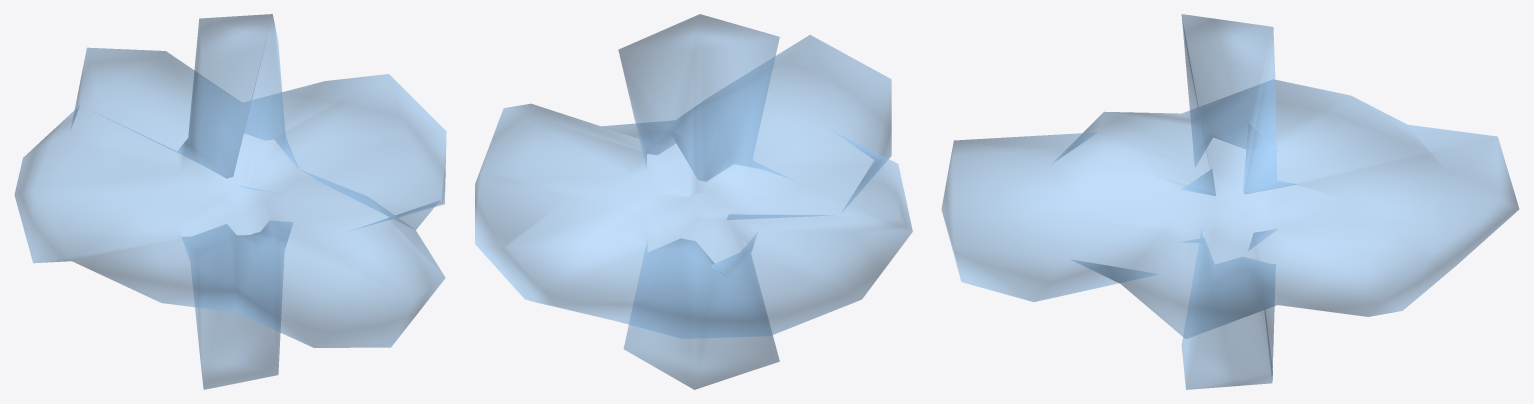
Rendered from tstation_shield.gltf.
The picture shows the model from 3 angles, left to right: view 1: azimuth 30°, elevation 25°; view 2: azimuth 150°, elevation 25°; view 3: azimuth 270°, elevation 25°; orthographic projection. The views are drawn at different scales.
Visible parts, largest first — view 1: tstation.shield; view 2: tstation.shield; view 3: tstation.shield.
Boxes of the visible parts, x1,y1,x2,y2 form: tstation.shield: (14, 14, 446, 389); tstation.shield: (475, 14, 912, 389); tstation.shield: (941, 14, 1519, 389).
Size of the model in its own units: 16.06 by 13.48 by 20.5.
